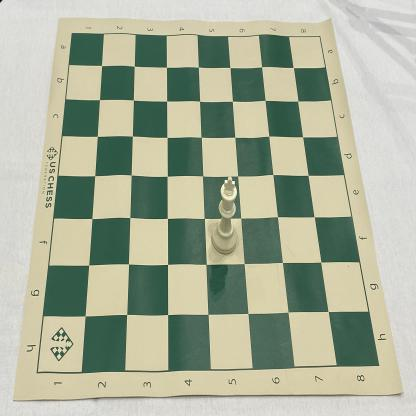white-king: (211, 176, 238, 255)
